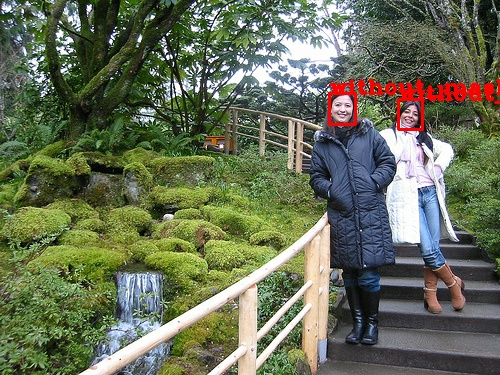without_mask: (327, 91, 360, 129), (398, 101, 424, 131)
